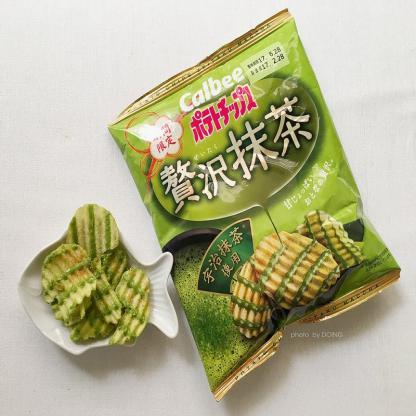potatochip: (104, 3, 404, 404)
